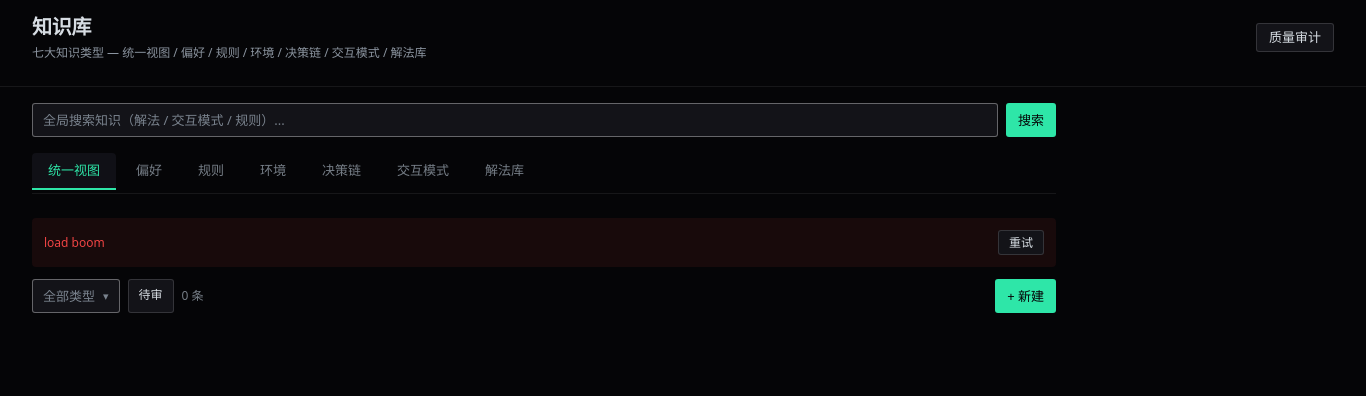
批次 F-1: tab 列表加载失败错误条 + 重试（tabQ.error 原先全程未渲染） › 点击重试重新发起请求并恢复列表、清除错误条
The width and height of the screenshot is (1366, 396).
Click the button "重试": (1021, 242) [998, 230, 1044, 255]
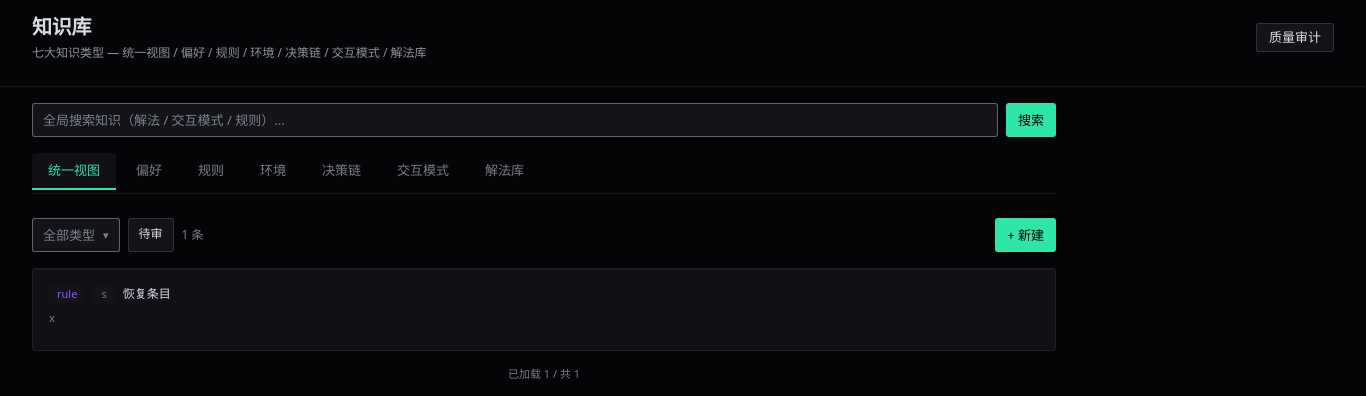
Now the text "恢复条目" is shown, box [123, 286, 171, 303]
Now the text "load boom" is gone
